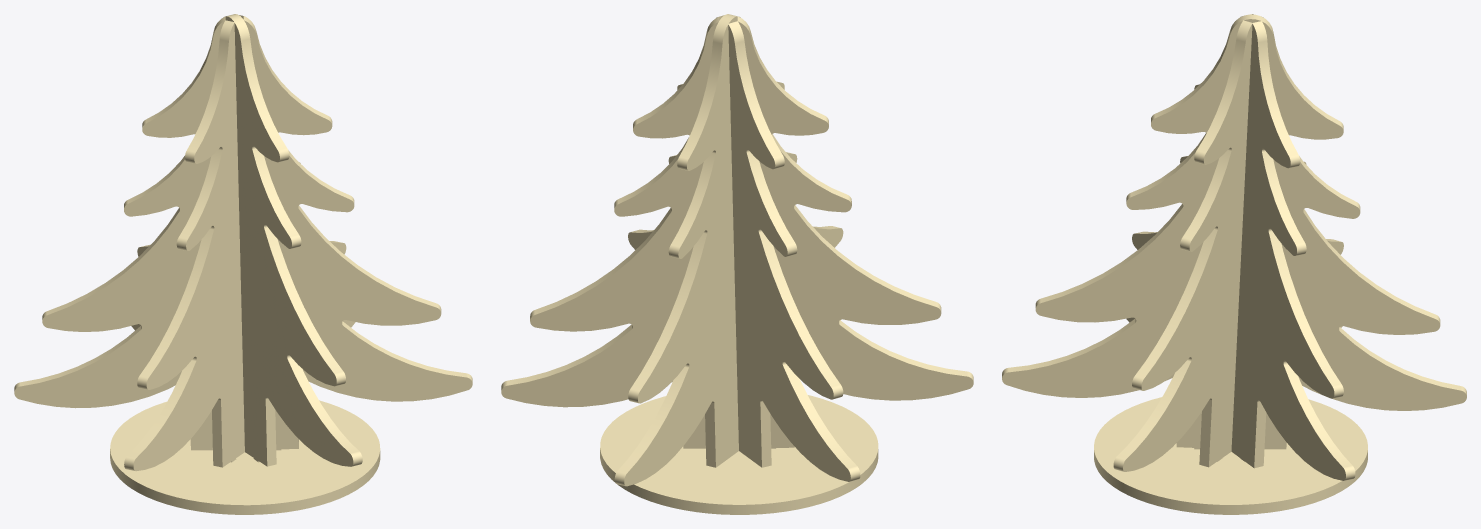
The model's file is tree.glb.
3 renders of one model, left to right at view 1: azimuth 30°, elevation 25°; view 2: azimuth 150°, elevation 25°; view 3: azimuth 270°, elevation 25°, orthographic. The views are drawn at different scales.
Parts seen in each view (by area): view 1: MIDDLE.step-1, MAIN.step-1, LAST.step-1, BASE.step-1; view 2: MAIN.step-1, LAST.step-1, MIDDLE.step-1, BASE.step-1; view 3: LAST.step-1, MAIN.step-1, MIDDLE.step-1, BASE.step-1.
Boxes of the visible parts, x1,y1,x2,y2 form: MIDDLE.step-1: [14, 16, 472, 450]; MAIN.step-1: [124, 15, 355, 471]; LAST.step-1: [131, 14, 362, 466]; BASE.step-1: [110, 400, 380, 514]; MAIN.step-1: [501, 16, 973, 448]; LAST.step-1: [614, 14, 843, 486]; MIDDLE.step-1: [628, 15, 860, 481]; BASE.step-1: [600, 395, 878, 514]; LAST.step-1: [1002, 14, 1466, 449]; MAIN.step-1: [1126, 14, 1355, 480]; MIDDLE.step-1: [1113, 14, 1343, 471]; BASE.step-1: [1094, 397, 1367, 514].
Bounding box in the file's own units: 0.2234 × 0.2666 × 0.2543.
